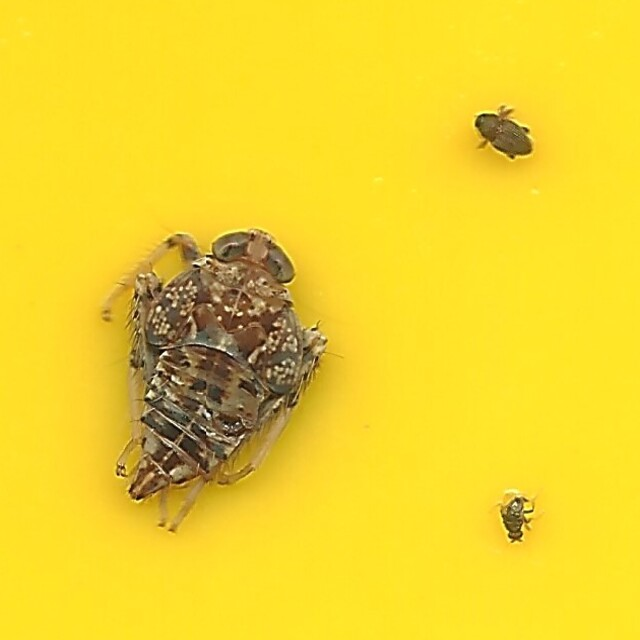Coleoptera: (471, 108, 538, 162)
Hemiptera: (102, 228, 326, 532)
